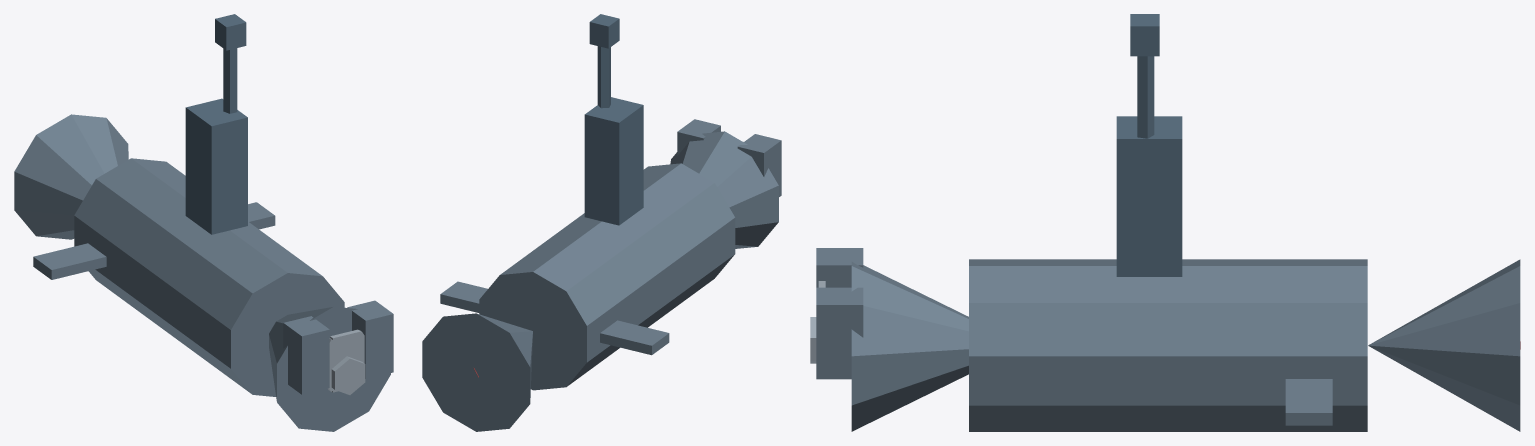
The model's file is unit_submarine.glb.
3 renders of one model, left to right at view 1: azimuth 30°, elevation 25°; view 2: azimuth 150°, elevation 25°; view 3: azimuth 270°, elevation 25°, orthographic. The views are drawn at different scales.
Visible parts, largest first — view 1: unit_submarine; view 2: unit_submarine; view 3: unit_submarine.
Boxes of the visible parts, box(x1,y1,x2,y2) form: unit_submarine: box(14, 14, 393, 431); unit_submarine: box(422, 14, 781, 431); unit_submarine: box(810, 14, 1520, 431).
Size of the model in its own units: 0.28 by 0.388 by 0.6052.
